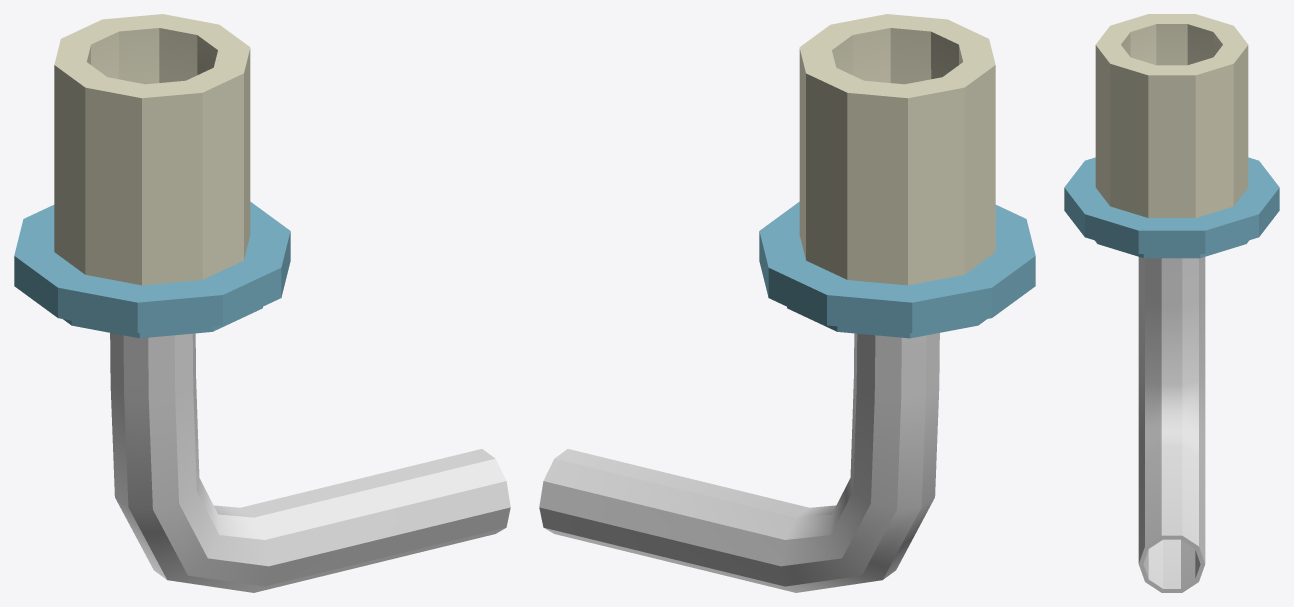
File: InderKanyle.fbx
3 views of the same model, side by side, from view 1: azimuth 30°, elevation 25°; view 2: azimuth 150°, elevation 25°; view 3: azimuth 270°, elevation 25° (orthographic). The views are drawn at different scales.
Parts seen in each view (by area): view 1: Ydre kanyle, Ydre kanyle.001; view 2: Ydre kanyle, Ydre kanyle.001; view 3: Ydre kanyle, Ydre kanyle.001.
Boxes of the visible parts, bbox=[...] form: Ydre kanyle: bbox=[14, 14, 290, 338]; Ydre kanyle.001: bbox=[110, 333, 510, 592]; Ydre kanyle: bbox=[759, 14, 1035, 338]; Ydre kanyle.001: bbox=[539, 333, 939, 592]; Ydre kanyle: bbox=[1064, 14, 1279, 258]; Ydre kanyle.001: bbox=[1138, 257, 1205, 592].
Bounding box in the file's own units: 370 × 434 × 200.
